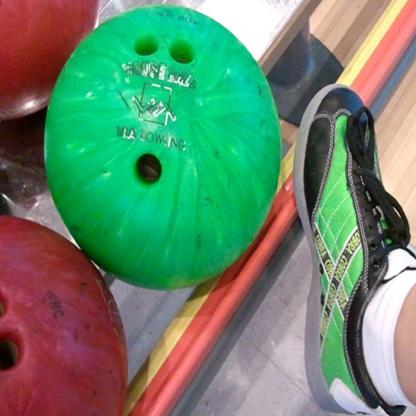Ball: (45, 5, 281, 291), (0, 216, 125, 415), (0, 0, 98, 120)
